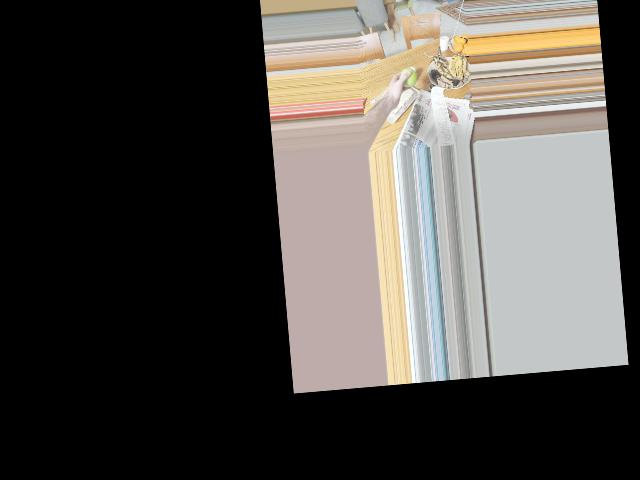apple: (398, 67, 418, 89)
